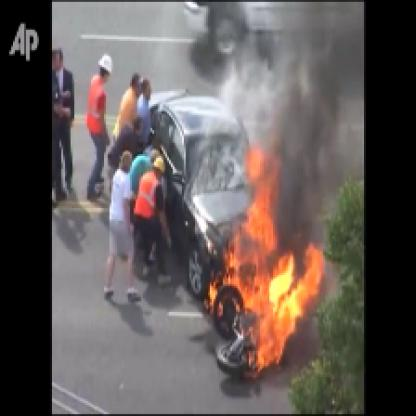Fire: (200, 143, 330, 377)
Smoke: (253, 2, 360, 217)
